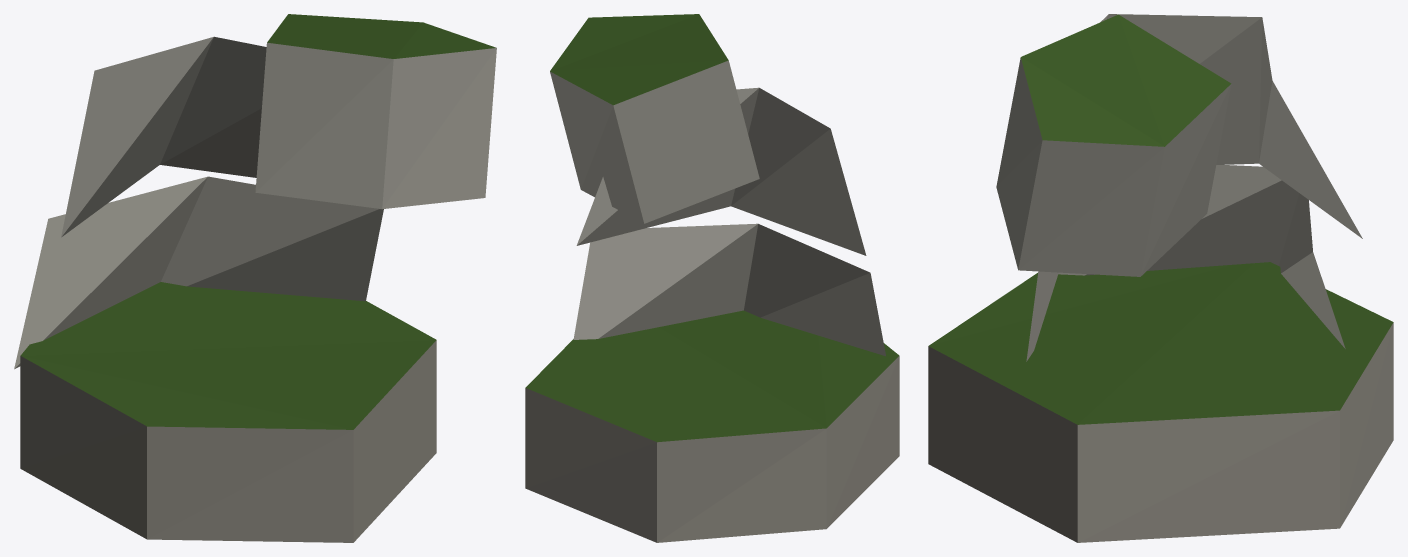
Rendered from rock.stub__stacked__spring.glb.
3 renders of one model, left to right at view 1: azimuth 30°, elevation 25°; view 2: azimuth 150°, elevation 25°; view 3: azimuth 270°, elevation 25°, orthographic. The views are drawn at different scales.
Parts seen in each view (by area): view 1: rock.stub; view 2: rock.stub; view 3: rock.stub.
Boxes of the visible parts, x1,y1,x2,y2 form: rock.stub: [14, 14, 496, 542]; rock.stub: [525, 14, 899, 542]; rock.stub: [928, 14, 1393, 542].
Size of the model in its own units: 1.32 by 1.46 by 1.37.
